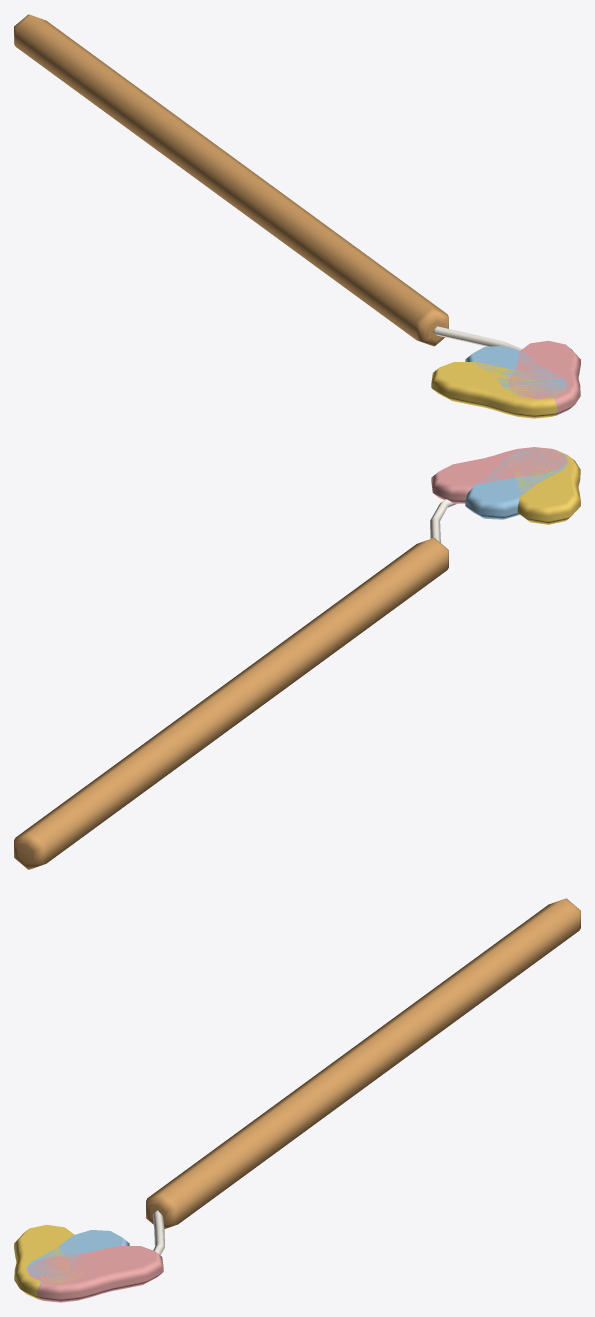
Rendered from petroom_feather_wand.glb.
3 renders of one model, top to bottom at view 1: azimuth 30°, elevation 25°; view 2: azimuth 150°, elevation 25°; view 3: azimuth 330°, elevation 25°, orthographic.
Visible parts, largest first — view 1: petroom_feather_wand_mesh; view 2: petroom_feather_wand_mesh; view 3: petroom_feather_wand_mesh.
Part boxes in pixels (x1,y1,x2,y2): petroom_feather_wand_mesh: (14, 14, 580, 418); petroom_feather_wand_mesh: (14, 447, 580, 869); petroom_feather_wand_mesh: (14, 898, 580, 1302).
Bounding box in the file's own units: 0.0629 × 0.016 × 0.4138.
